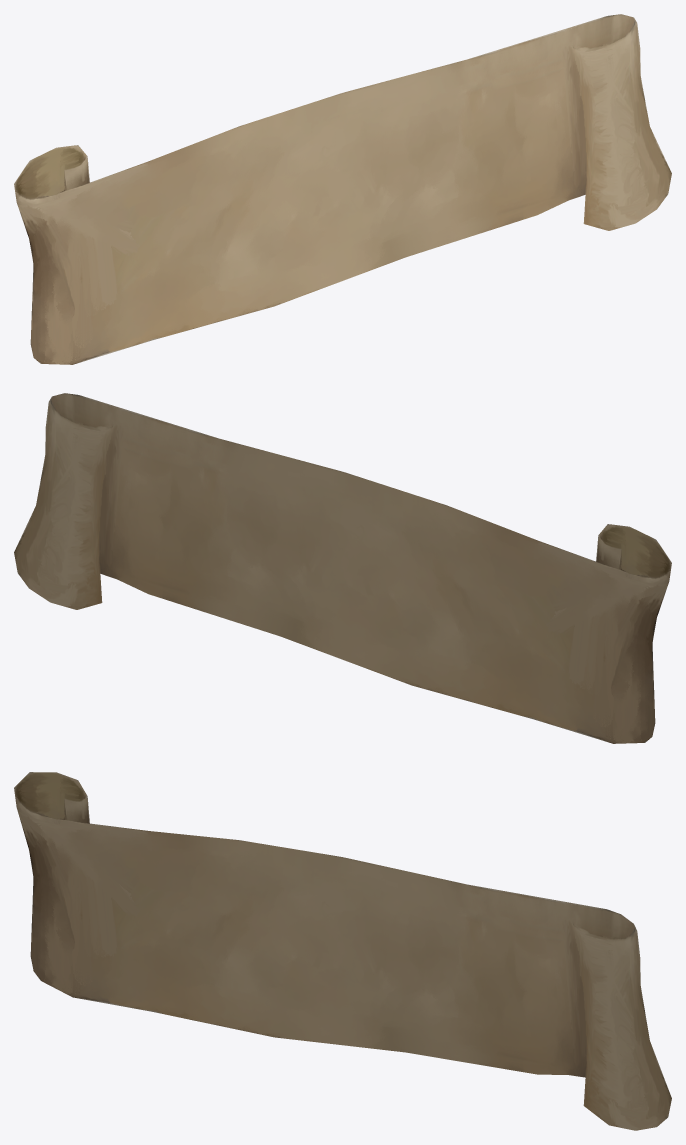
The model's file is Planet_label.fbx.
3 renders of one model, top to bottom at view 1: azimuth 30°, elevation 25°; view 2: azimuth 150°, elevation 25°; view 3: azimuth 330°, elevation 25°, orthographic.
Parts seen in each view (by area): view 1: planet label; view 2: planet label; view 3: planet label.
Boxes of the visible parts, left/top/right/bottom form: planet label: left=14, top=14, right=671, bottom=364; planet label: left=14, top=393, right=671, bottom=743; planet label: left=14, top=772, right=671, bottom=1130.
Bounding box in the file's own units: 295 × 94.78 × 4.14e-06.
